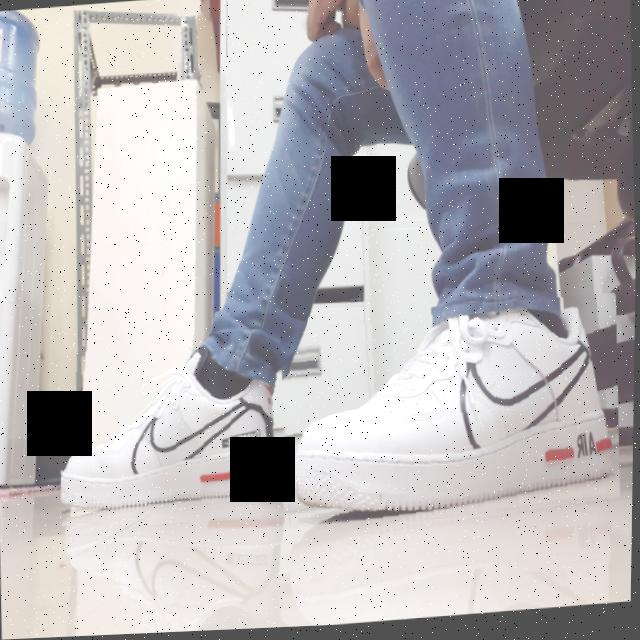shoe: (277, 298, 624, 547), (57, 329, 299, 527)
